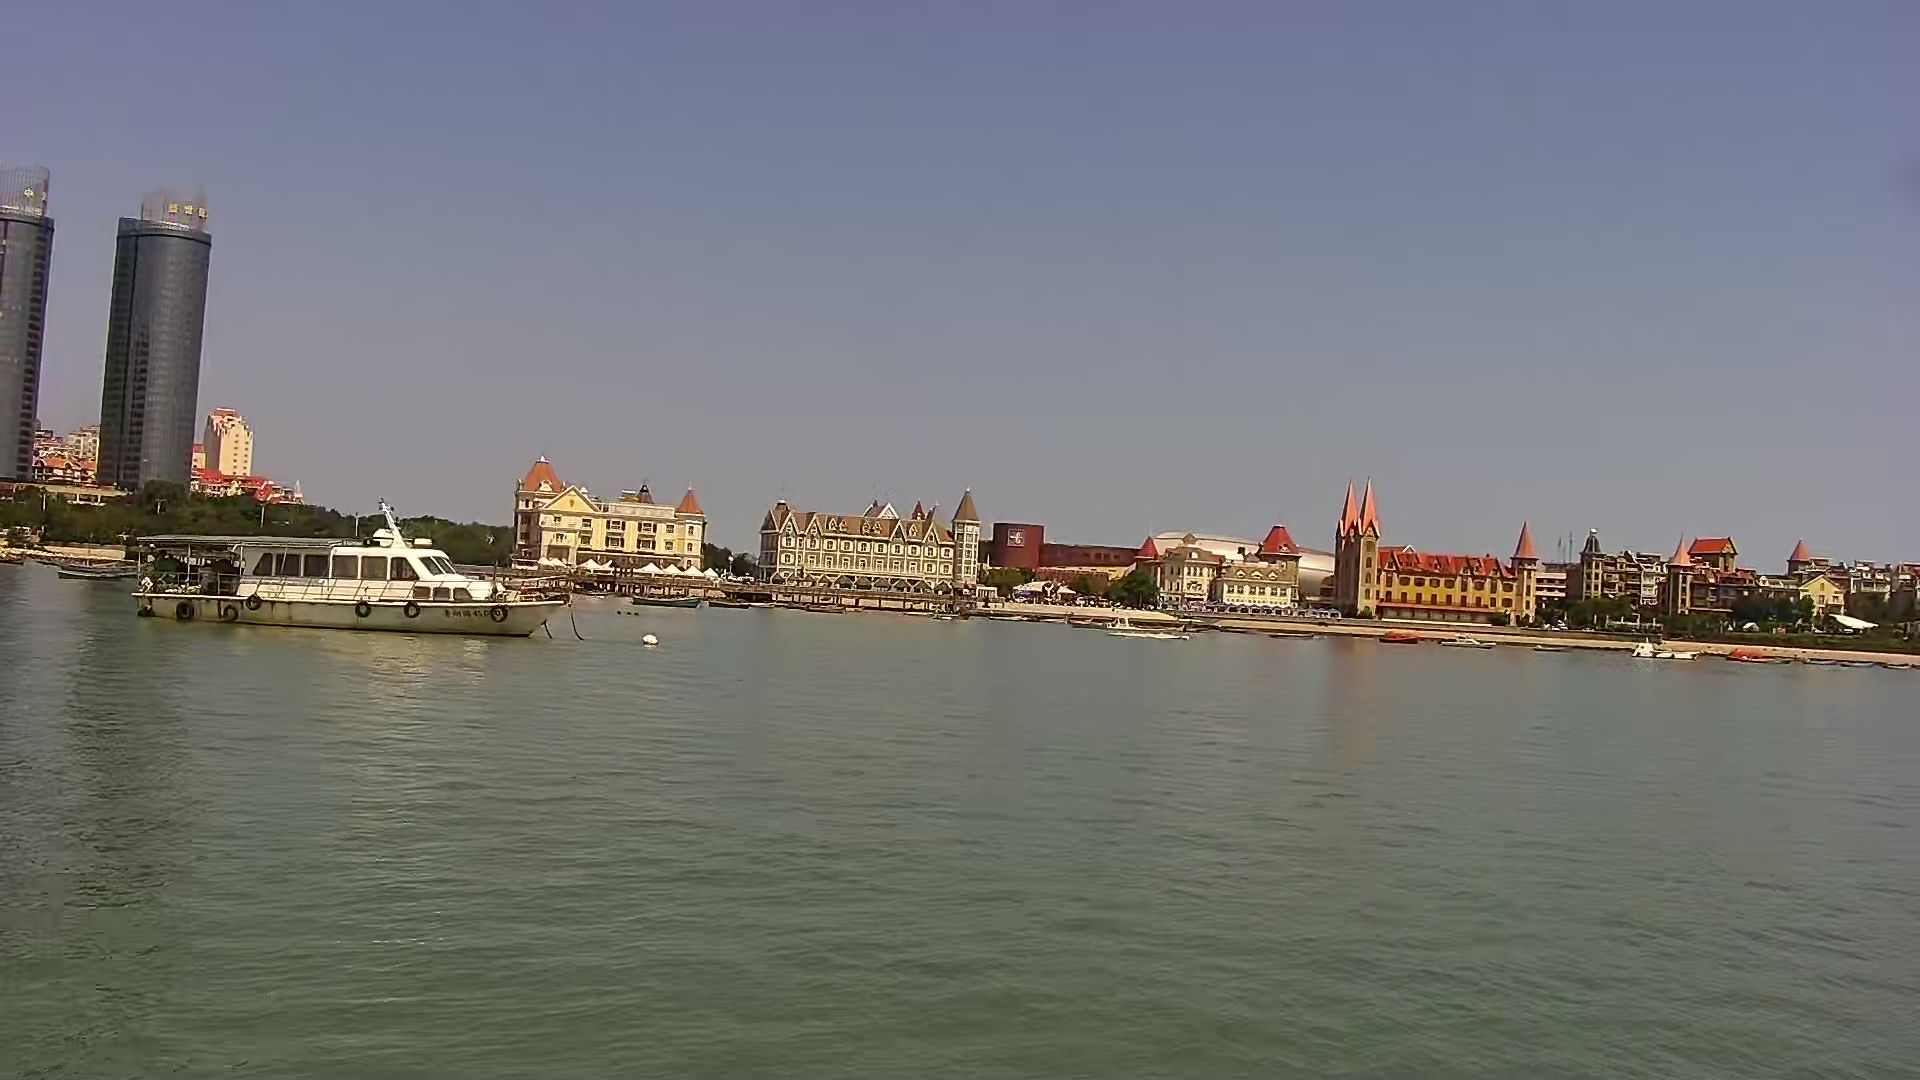ball: (644, 626, 663, 647)
ship: (129, 502, 566, 640)
